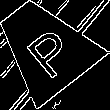P_NW: (13, 15, 75, 78)
